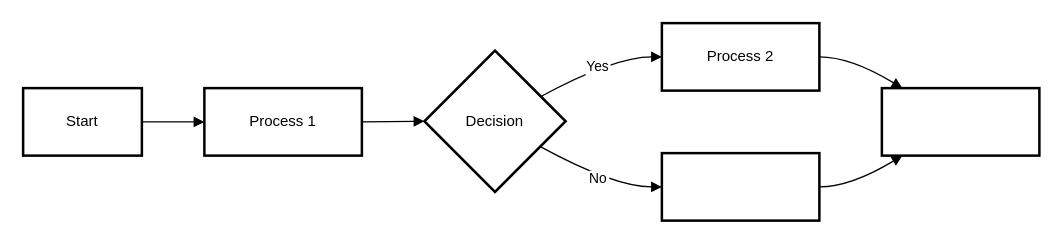
The diagram is 1061 pixels wide and 243 high, and some of its shapes have lost their labels. Here are the shapes that lost their labels. From the top down, the centre of each, then its label:
pixel 960 121: Process 4
pixel 740 186: Process 3
